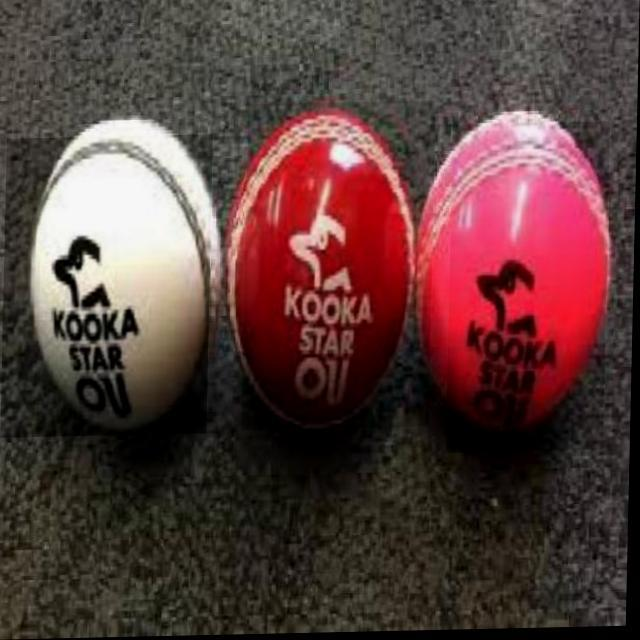-: (2, 135, 214, 438), (243, 102, 436, 432), (448, 124, 611, 455)
